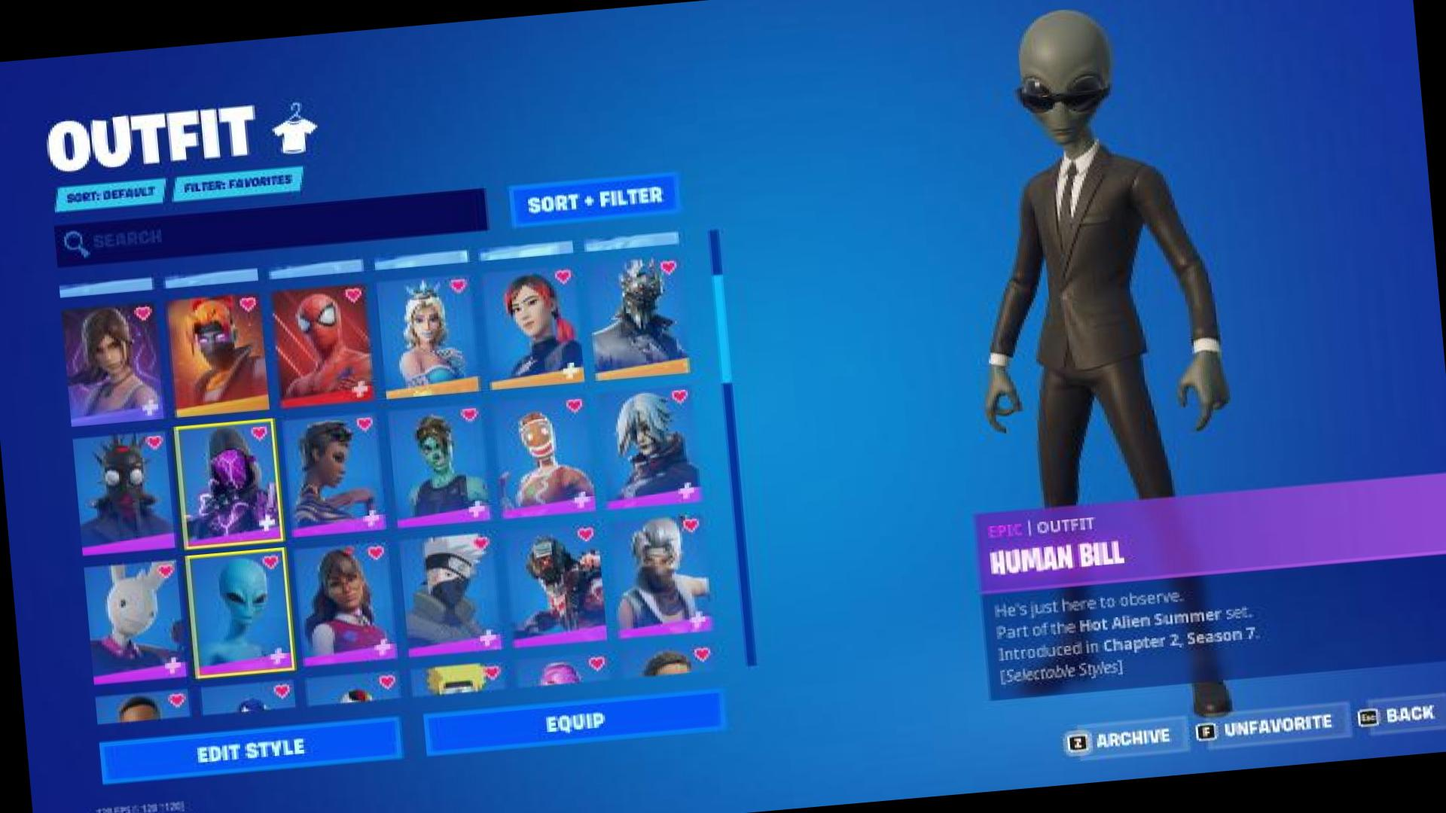player: (917, 0, 1284, 741)
